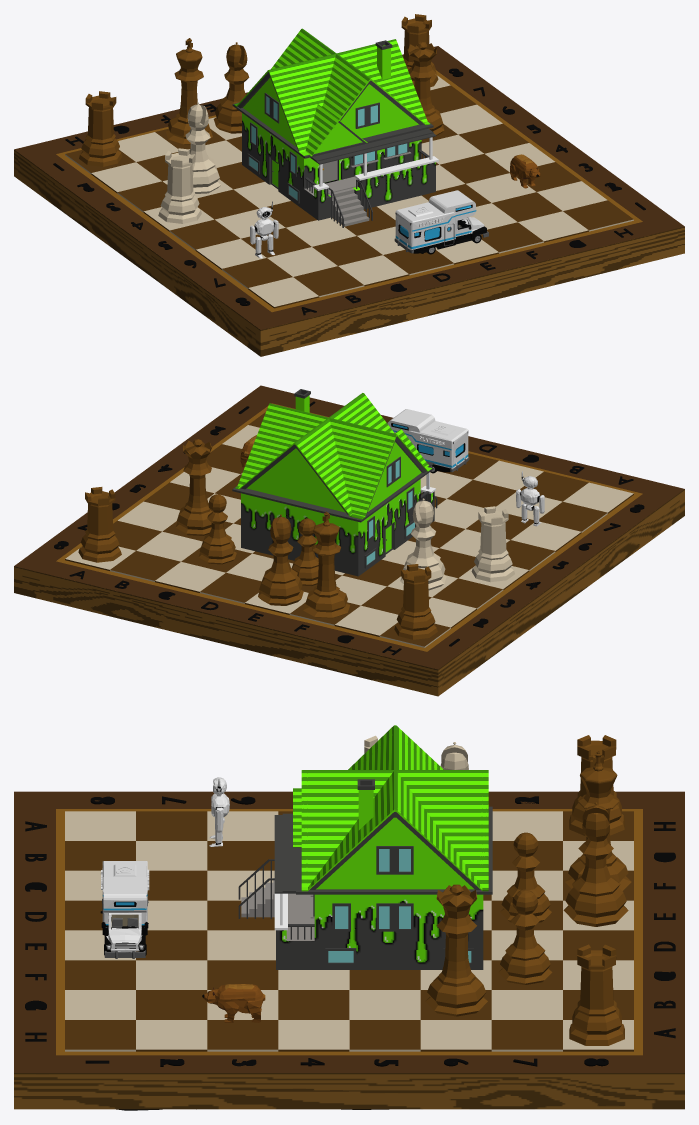
The picture shows the model from 3 angles, top to bottom: view 1: azimuth 30°, elevation 25°; view 2: azimuth 150°, elevation 25°; view 3: azimuth 270°, elevation 25°; orthographic projection. The views are drawn at different scales.
Parts seen in each view (by area): view 1: Cube.002, Cube.754, VEHICLES_CAMPER, OBJRANDOM_PLATZEEBOT, ANIMAL_OSO; view 2: Cube.002, Cube.754, VEHICLES_CAMPER, OBJRANDOM_PLATZEEBOT; view 3: Cube.002, Cube.754, VEHICLES_CAMPER, ANIMAL_OSO, OBJRANDOM_PLATZEEBOT.
Part boxes in pixels (<box>): Cube.002: <box>14,14,684,356</box>; Cube.754: <box>232,28,438,227</box>; VEHICLES_CAMPER: <box>394,190,488,254</box>; OBJRANDOM_PLATZEEBOT: <box>250,201,278,258</box>; ANIMAL_OSO: <box>510,154,540,188</box>; Cube.002: <box>14,385,684,696</box>; Cube.754: <box>232,389,437,576</box>; VEHICLES_CAMPER: <box>387,409,469,473</box>; OBJRANDOM_PLATZEEBOT: <box>516,471,544,526</box>; Cube.002: <box>14,735,684,1109</box>; Cube.754: <box>238,725,492,969</box>; VEHICLES_CAMPER: <box>100,861,149,958</box>; ANIMAL_OSO: <box>202,984,265,1022</box>; OBJRANDOM_PLATZEEBOT: <box>209,777,229,846</box>.
Size of the model in its own units: 3981 by 1457 by 4012.
Materials: 33 (3 with a texture image).
